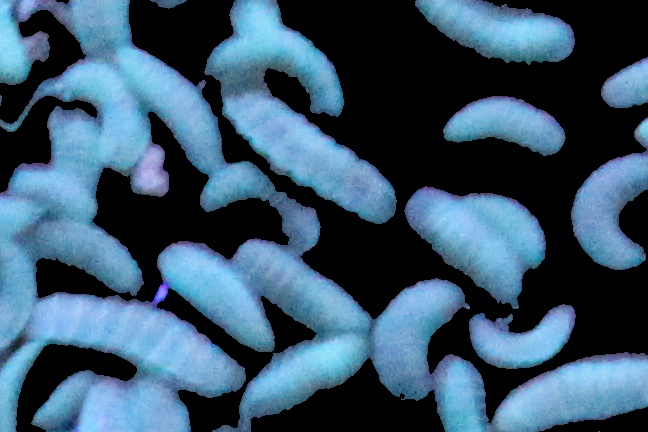larvae: (232, 87, 395, 222), (35, 296, 245, 393), (111, 45, 226, 173), (407, 185, 524, 309), (234, 240, 371, 335), (489, 351, 648, 432), (157, 242, 271, 352), (205, 26, 342, 114), (370, 277, 464, 396), (201, 161, 319, 252), (247, 334, 369, 419), (57, 62, 151, 170), (410, 1, 576, 61), (570, 150, 648, 267), (37, 221, 141, 291), (468, 302, 575, 367), (456, 189, 546, 266), (440, 95, 566, 149), (9, 163, 98, 219), (46, 108, 99, 196), (431, 356, 490, 432), (30, 368, 96, 432), (1, 237, 35, 347), (1, 343, 39, 432), (597, 53, 648, 115), (1, 1, 33, 84)
